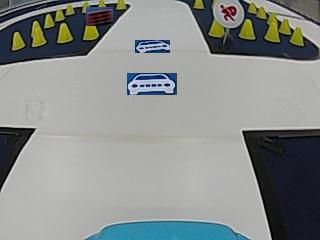thief: (212, 0, 245, 27)
